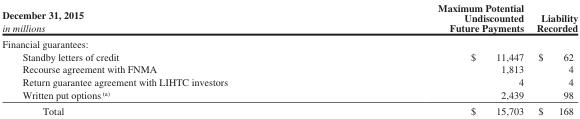table: (1, 1, 577, 116)
table column: (1, 1, 332, 116), (332, 1, 529, 116), (529, 1, 577, 116)
table column header: (1, 1, 577, 35)
table projected row header: (1, 35, 577, 50)
table row: (1, 1, 577, 35), (1, 35, 577, 50), (1, 87, 577, 102), (1, 102, 577, 116), (1, 62, 577, 75), (1, 50, 577, 62), (1, 75, 577, 87)
